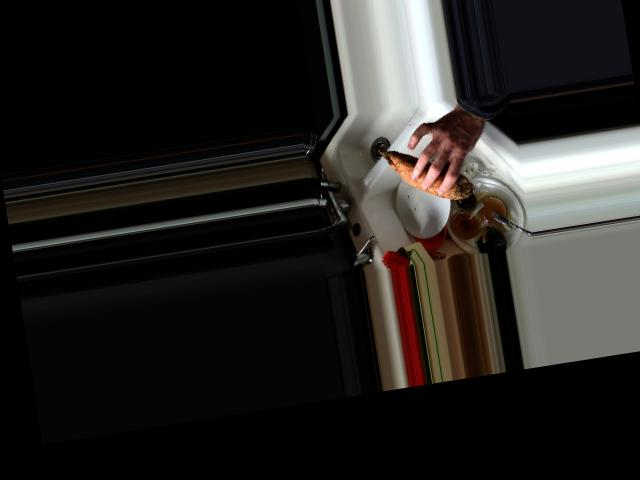sweet_potato: (376, 135, 473, 211)
